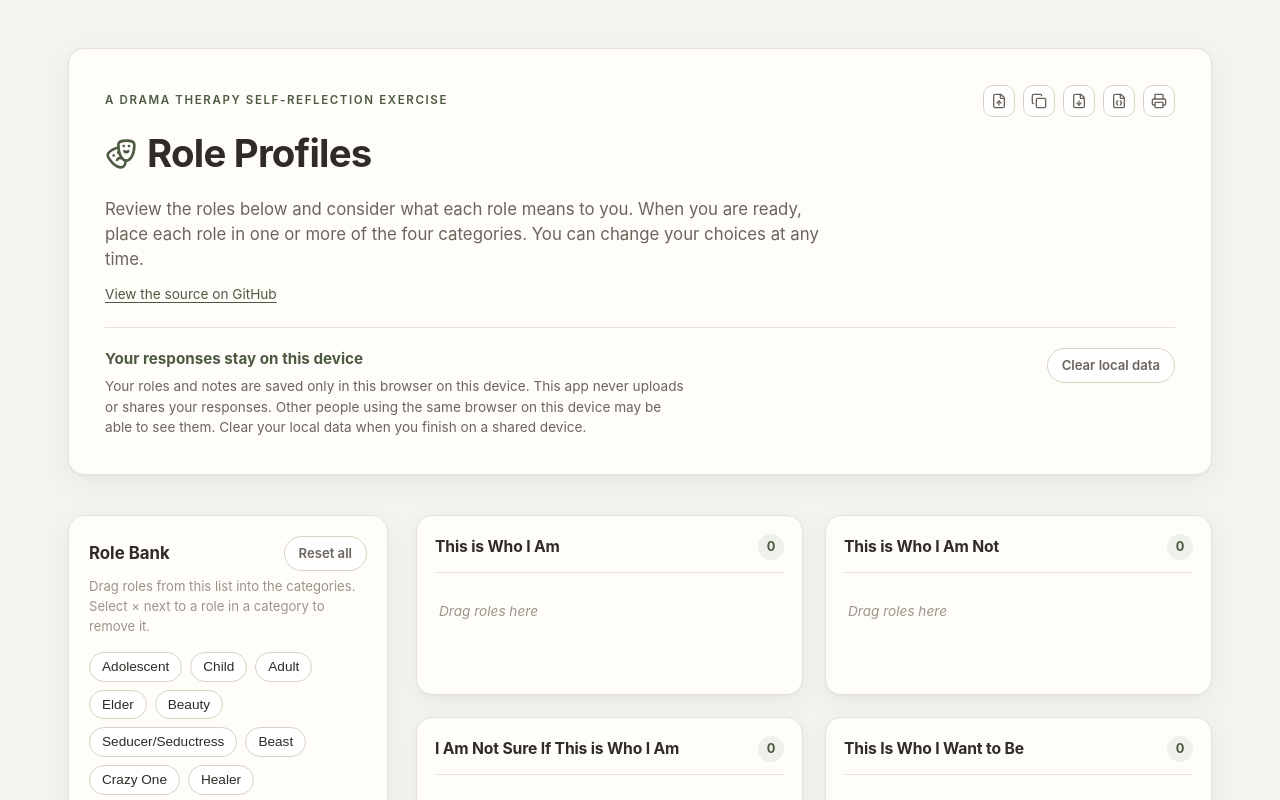
Test: privacy and local data › confirms clearing even when there are notes but no placed roles
Click the button "Clear local data". click: (1111, 365)
box: [1047,348,1175,383]
(page scrolled)
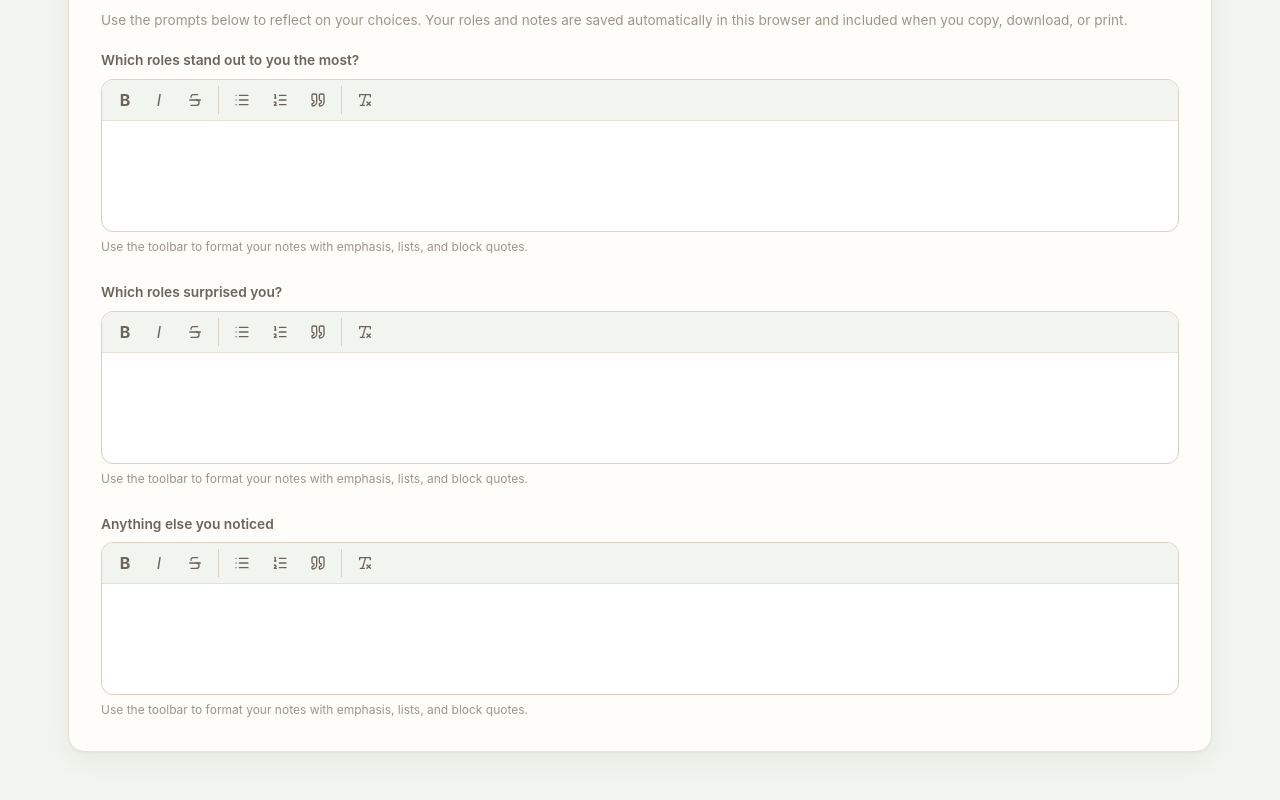
Result: the field with class "rte__content" is empty at [102,121,1178,231]
